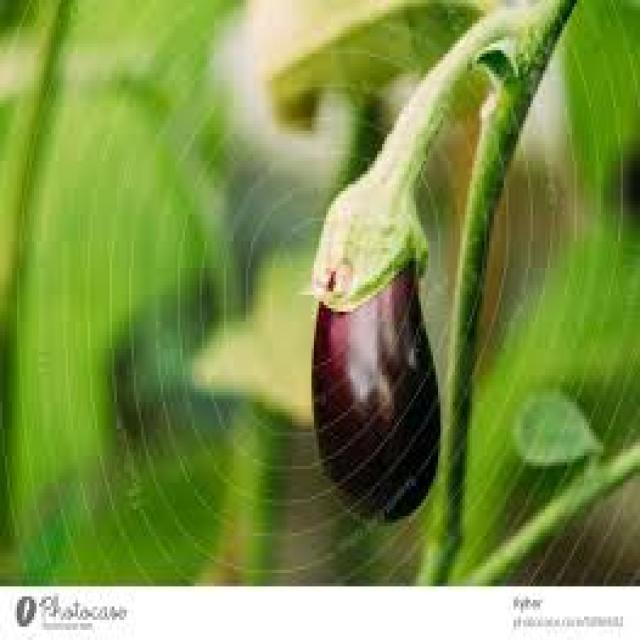Eggplant: (307, 100, 445, 528)
